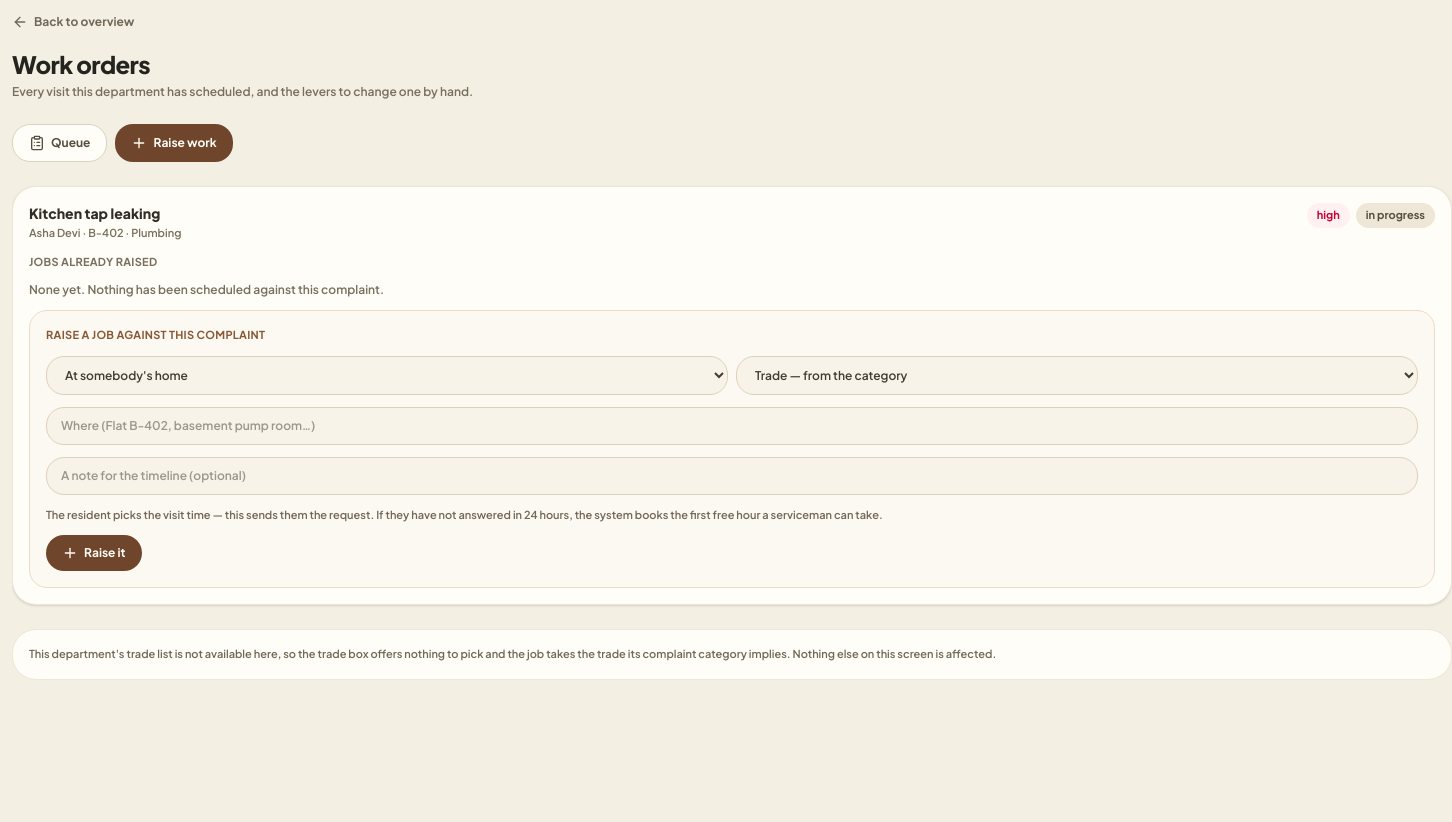
Test: raising a job no longer asks for the hour › tells the supervisor who picks the time, and changes its answer with the subject
The width and height of the screenshot is (1452, 822).
Expected: the text "The resident picks the visit time — this sends them the request. If they have not answered in 24 hours, the system book" is shown, [46, 508, 883, 520]
Select "A common area" in the 1st dropdown at (387, 375), box [46, 356, 728, 394]
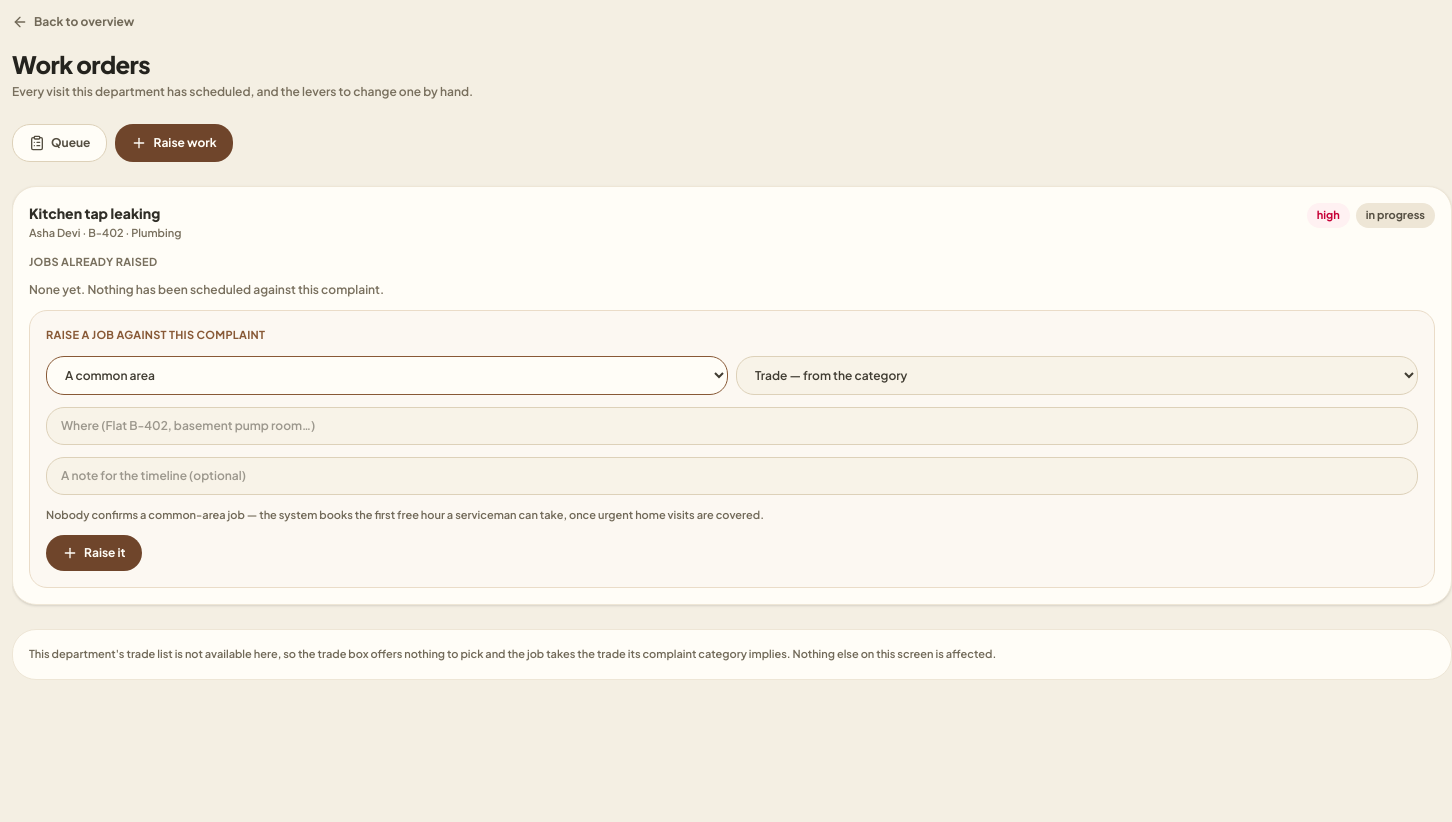
Expected: the text "Nobody confirms a common-area job — the system books the first free hour a serviceman can take, once urgent home visits " is shown, [46, 508, 764, 520]
